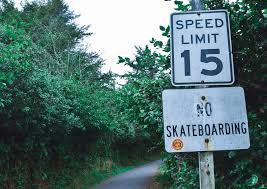speedLimit15: (168, 7, 235, 86)
